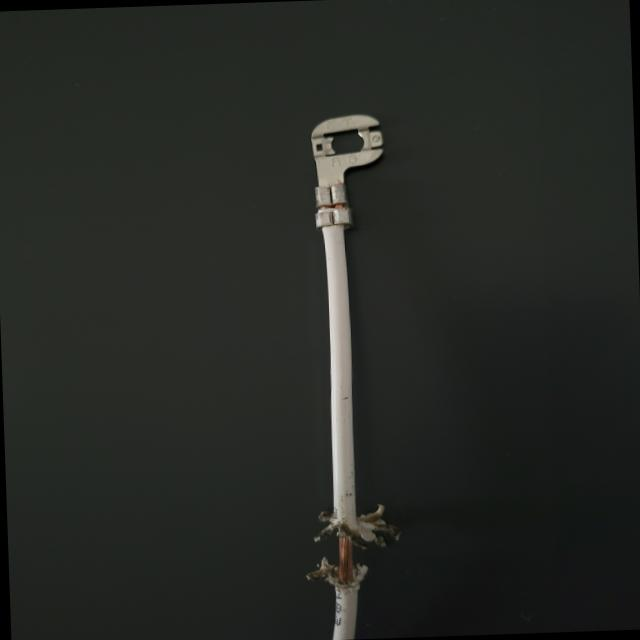defect: (207, 455, 450, 640)
